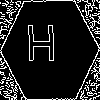H: (25, 25, 57, 71)
